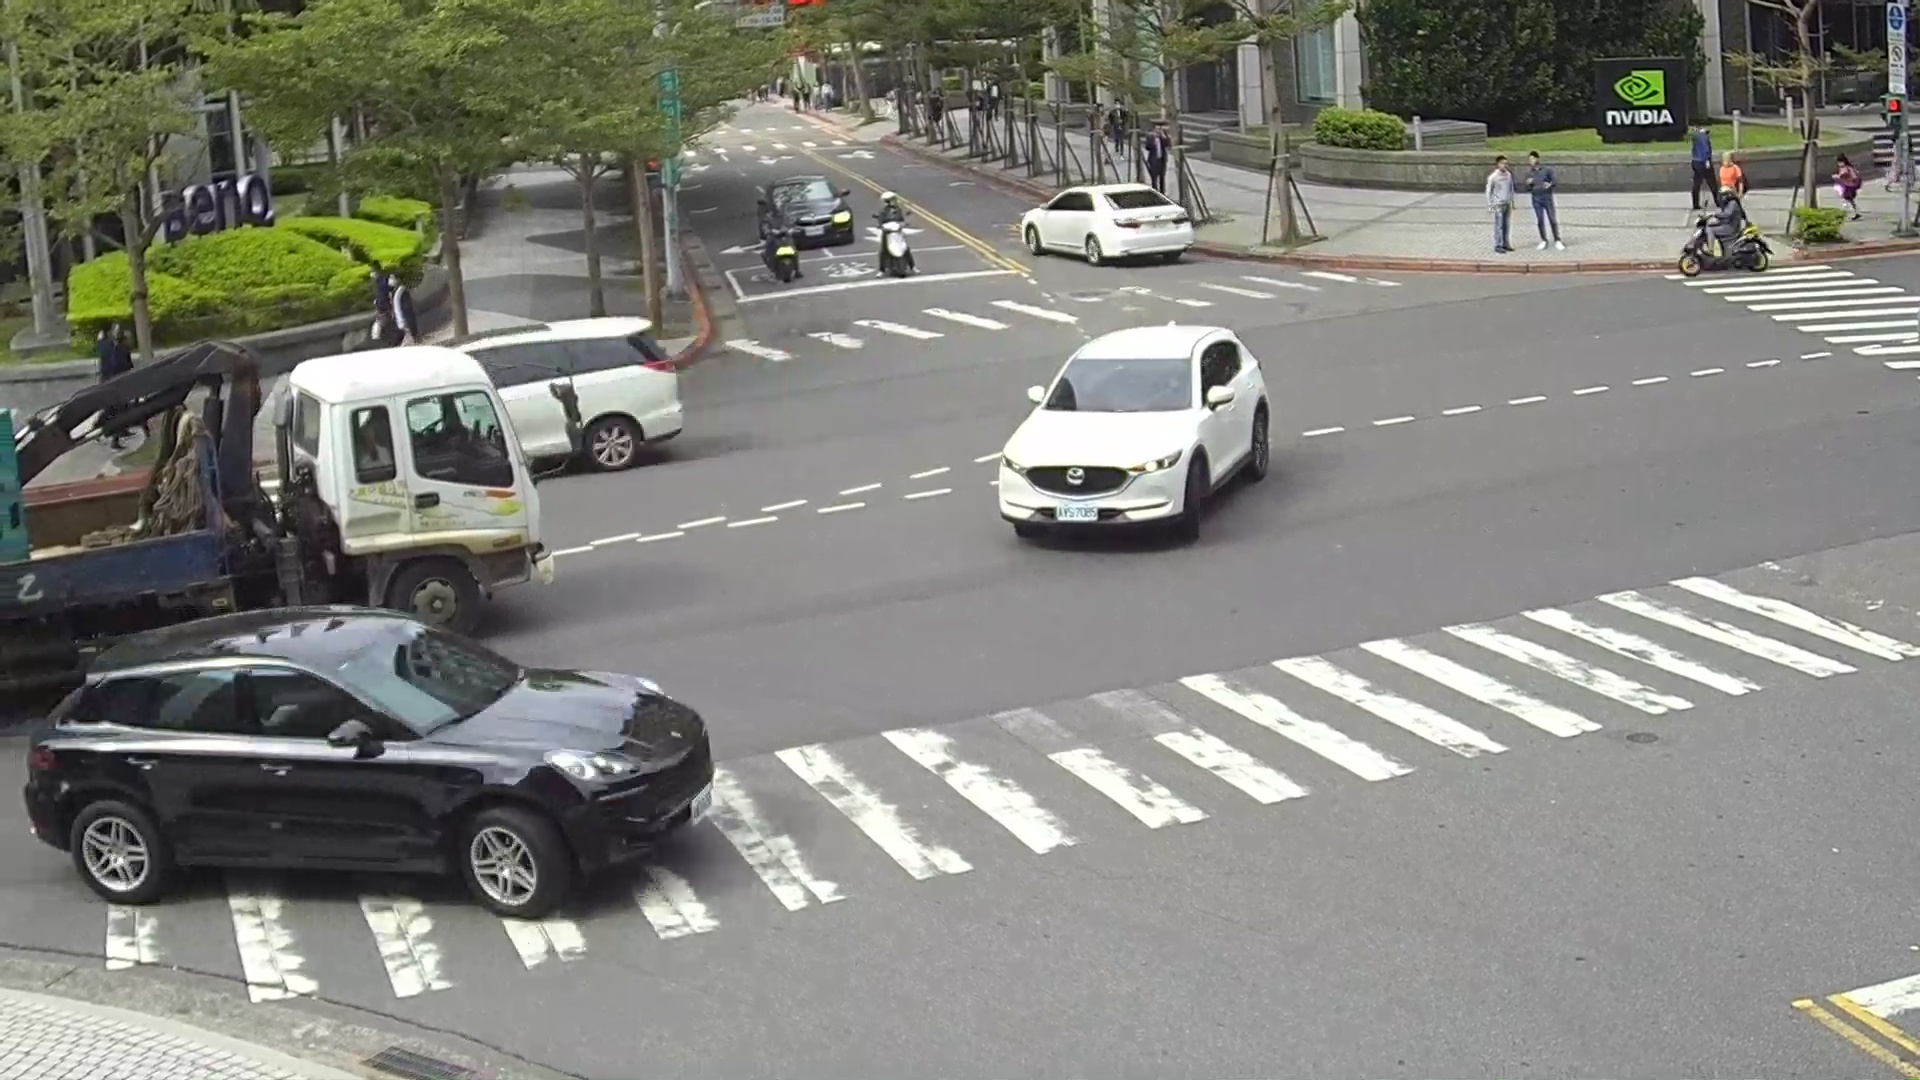bike: (1676, 213, 1771, 277), (874, 220, 918, 277), (767, 236, 802, 282)
pedestrian: (1522, 150, 1566, 250), (366, 270, 413, 344), (1484, 156, 1518, 252), (1714, 152, 1749, 234), (1689, 122, 1717, 209), (94, 323, 132, 381), (1831, 154, 1866, 218), (874, 191, 910, 250), (763, 202, 795, 258), (1143, 127, 1168, 191), (1108, 98, 1126, 142), (817, 83, 836, 110)
vehicle: (18, 611, 723, 918), (1, 346, 555, 722), (997, 321, 1272, 543), (454, 316, 688, 474), (1016, 182, 1193, 266), (757, 175, 852, 252)
